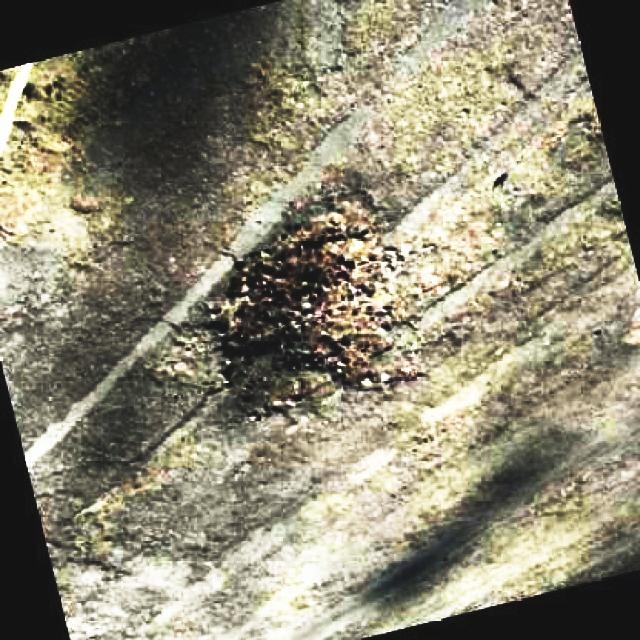pothole: (218, 178, 420, 417)
